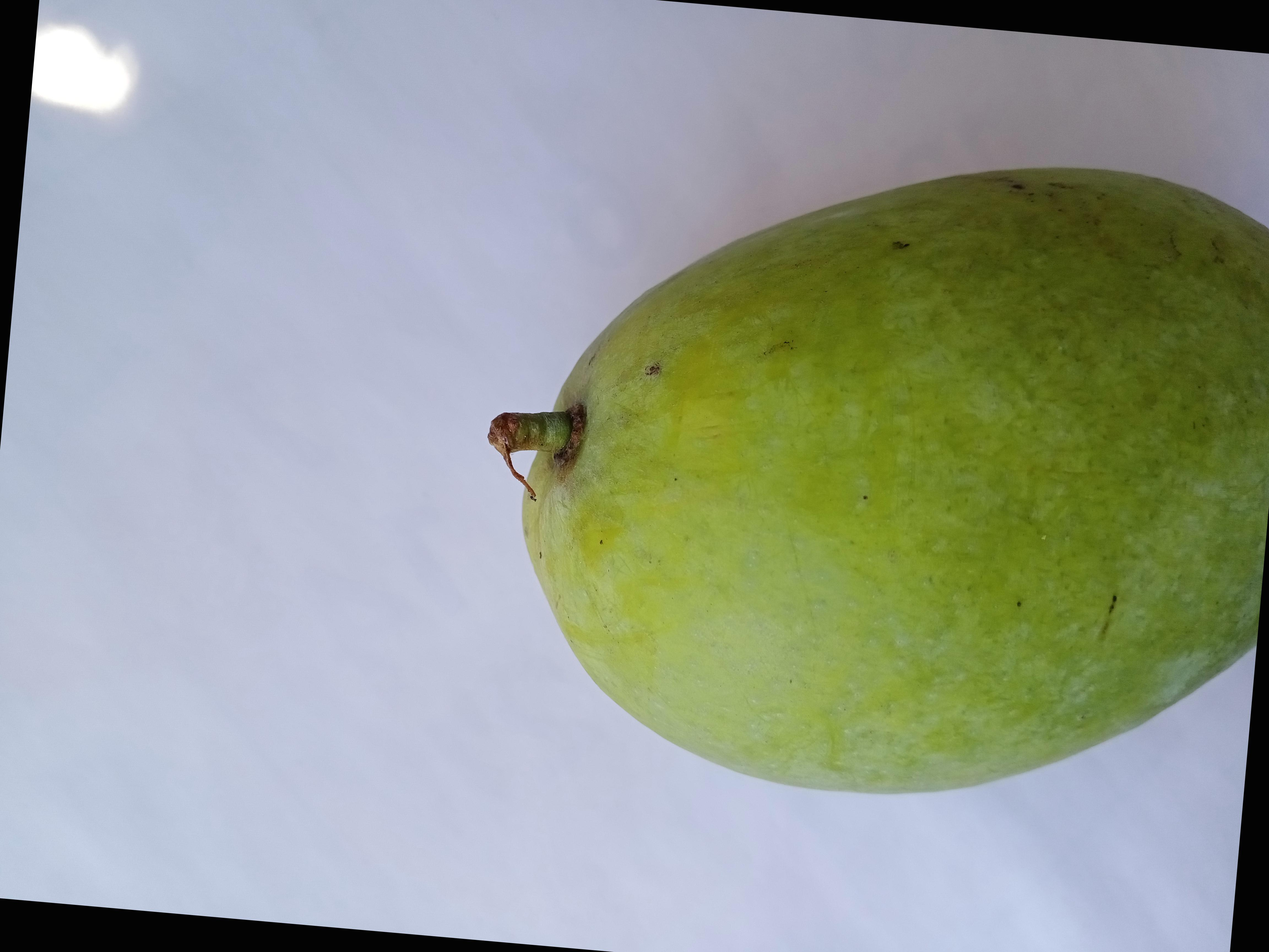Mango Unripe: (492, 38, 1269, 736)
